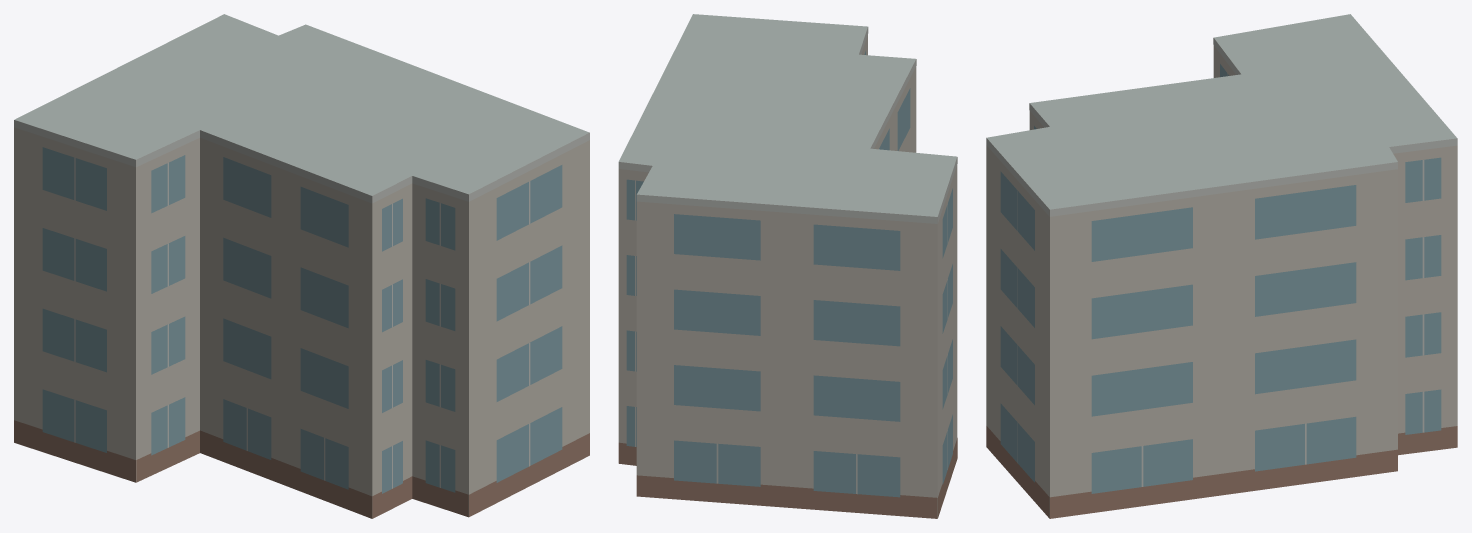
The model's file is survey-upis-32524412.glb.
3 views of the same model, side by side, from view 1: azimuth 30°, elevation 25°; view 2: azimuth 150°, elevation 25°; view 3: azimuth 270°, elevation 25° (orthographic). The views are drawn at different scales.
Visible parts, largest first — view 1: survey-upis-32524412.tmp; view 2: survey-upis-32524412.tmp; view 3: survey-upis-32524412.tmp.
Part boxes in pixels (x1,y1,x2,y2): survey-upis-32524412.tmp: (14,14,589,518); survey-upis-32524412.tmp: (618,14,957,518); survey-upis-32524412.tmp: (986,14,1457,518).
Size of the model in its own units: 14.26 by 10.5 by 14.51.
